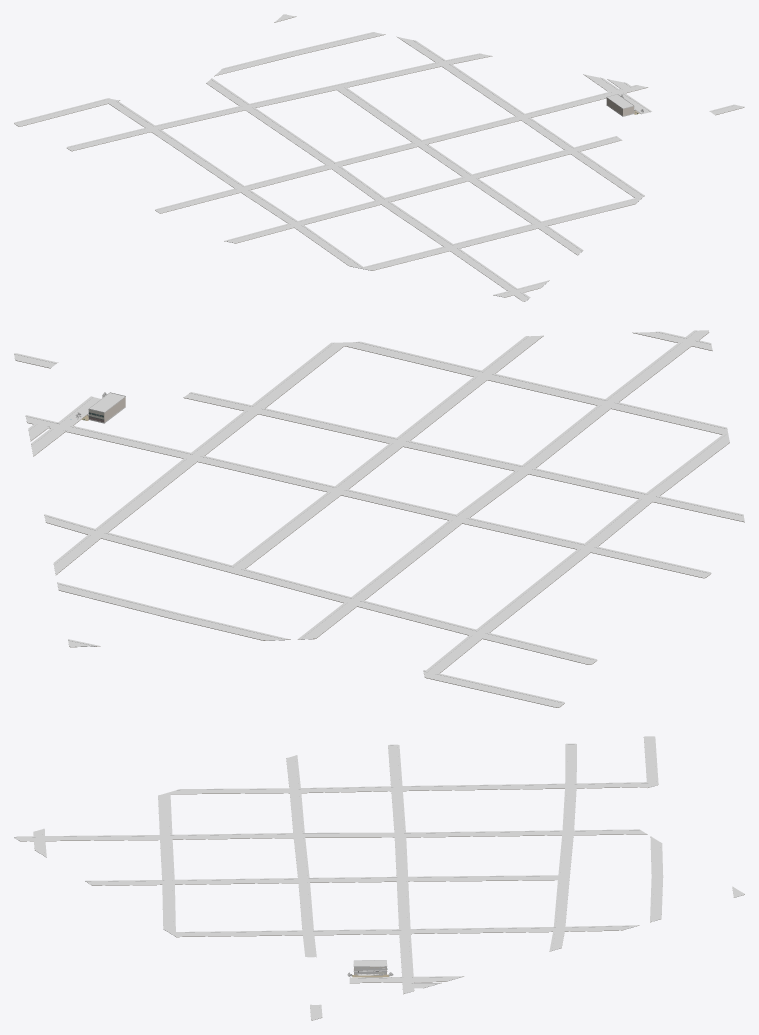
The picture shows the model from 3 angles, top to bottom: view 1: azimuth 30°, elevation 25°; view 2: azimuth 150°, elevation 25°; view 3: azimuth 270°, elevation 25°; orthographic projection. The views are drawn at different scales.
Visible parts, largest first — view 1: col_road, col_sidewalk, sidewalk, col_curb; view 2: col_road, col_sidewalk, col_curb, sidewalk; view 3: col_road, col_sidewalk, col_curb, sidewalk, col_building.
Boxes of the visible parts, left/top/right/bottom form: col_road: left=16, top=15, right=742, bottom=301; col_sidewalk: left=14, top=14, right=744, bottom=301; sidewalk: left=14, top=16, right=744, bottom=301; col_curb: left=16, top=14, right=734, bottom=297; col_road: left=14, top=330, right=744, bottom=706; col_sidewalk: left=14, top=330, right=744, bottom=707; col_curb: left=14, top=330, right=743, bottom=704; sidewalk: left=15, top=332, right=744, bottom=707; col_road: left=15, top=737, right=742, bottom=1020; col_sidewalk: left=15, top=736, right=744, bottom=1020; col_curb: left=14, top=737, right=742, bottom=1019; sidewalk: left=19, top=785, right=744, bottom=1020; col_building: left=353, top=960, right=387, bottom=975.
Size of the model in its own units: 655 by 9.57 by 711.
